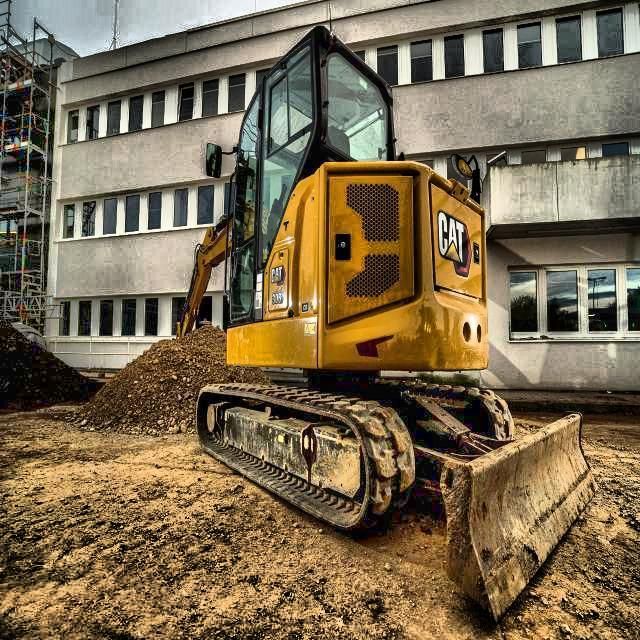excavator: (169, 22, 602, 621)
